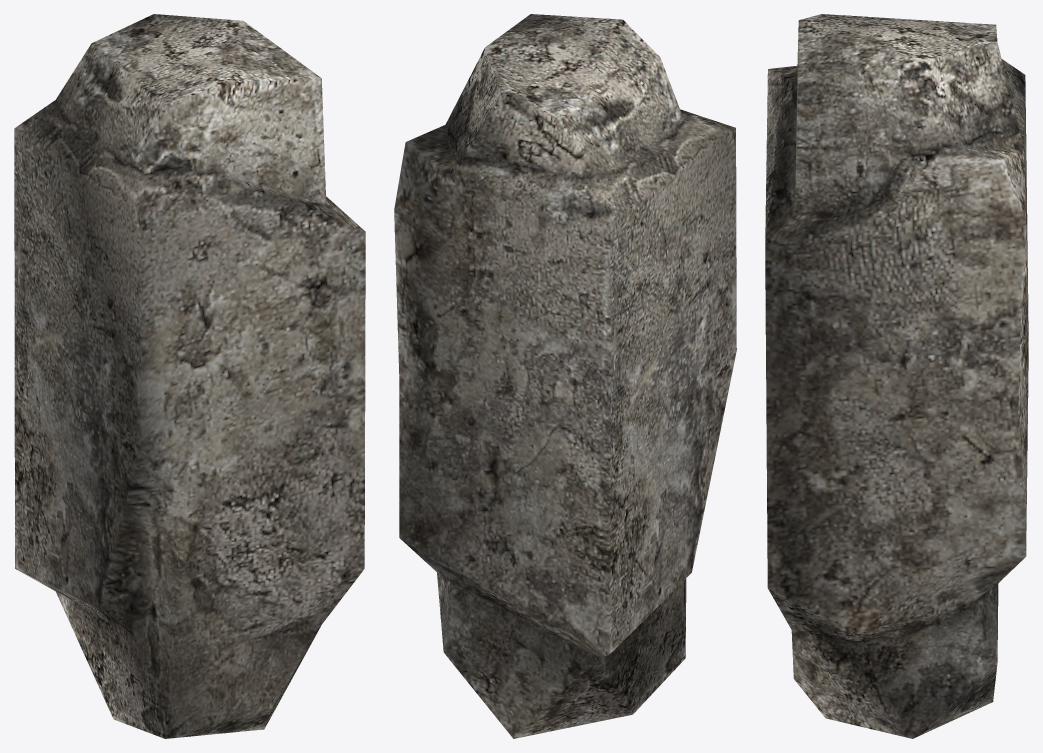
Rendered from Debris1_1_LOD1.fbx.
The picture shows the model from 3 angles, left to right: view 1: azimuth 30°, elevation 25°; view 2: azimuth 150°, elevation 25°; view 3: azimuth 270°, elevation 25°; orthographic projection. The views are drawn at different scales.
Visible parts, largest first — view 1: polySurface24; view 2: polySurface24; view 3: polySurface24.
Part boxes in pixels (left/top/right/bottom): polySurface24: left=14, top=14, right=365, bottom=738; polySurface24: left=394, top=14, right=736, bottom=738; polySurface24: left=765, top=14, right=1028, bottom=738.
Size of the model in its own units: 1.52 by 4.31 by 1.53.
